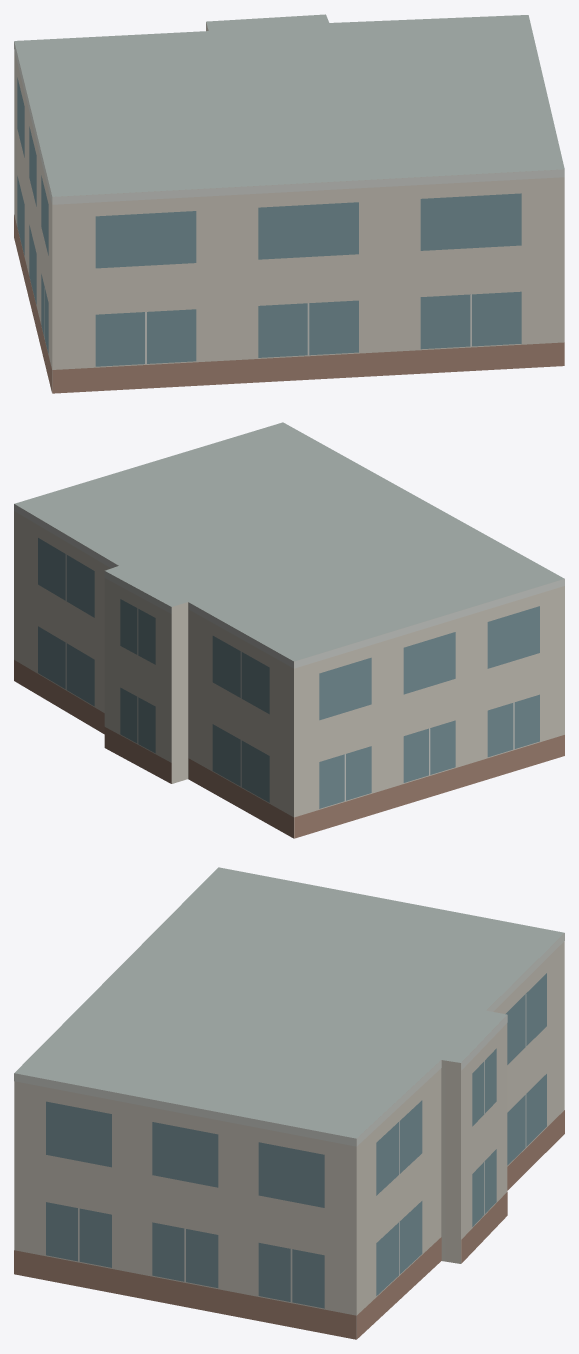
Rendered from survey-upis-32931189.glb.
The picture shows the model from 3 angles, top to bottom: view 1: azimuth 30°, elevation 25°; view 2: azimuth 150°, elevation 25°; view 3: azimuth 270°, elevation 25°; orthographic projection. The views are drawn at different scales.
Visible parts, largest first — view 1: survey-upis-32931189.tmp; view 2: survey-upis-32931189.tmp; view 3: survey-upis-32931189.tmp.
Part boxes in pixels (x1,y1,x2,y2): survey-upis-32931189.tmp: (14,14,564,393); survey-upis-32931189.tmp: (14,422,564,838); survey-upis-32931189.tmp: (14,867,564,1339).
Bounding box in the file's own units: 17.67 × 6.1 × 15.15.
